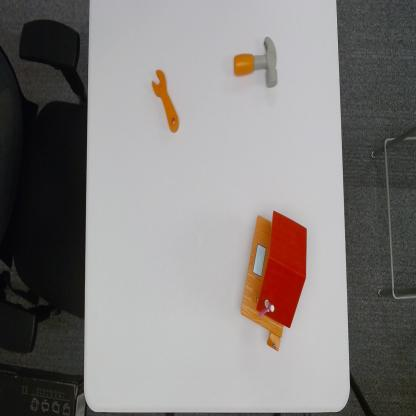Hammer: (231, 36, 279, 89)
House: (238, 206, 309, 352)
Screwdriver: (150, 67, 181, 134)
